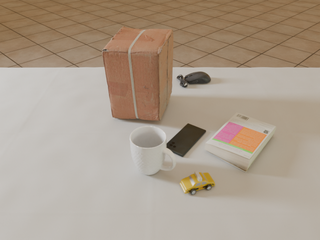book: (205, 113, 276, 172)
box: (102, 27, 173, 120)
cup: (130, 126, 176, 175)
mouse: (177, 72, 211, 87)
phone: (166, 124, 206, 157)
toy_car: (180, 171, 215, 194)
